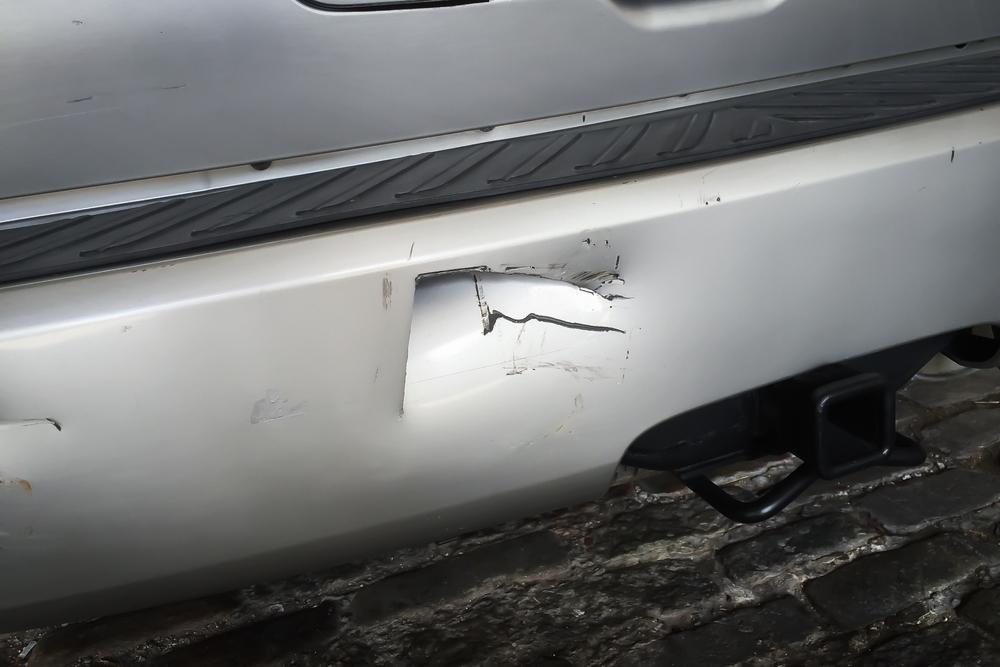crack: (399, 266, 632, 425)
